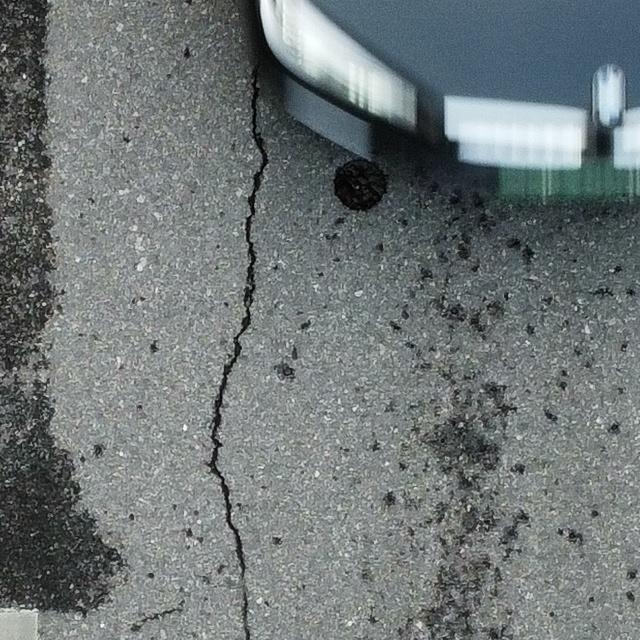LongitudinalCrack: (205, 64, 270, 640)
